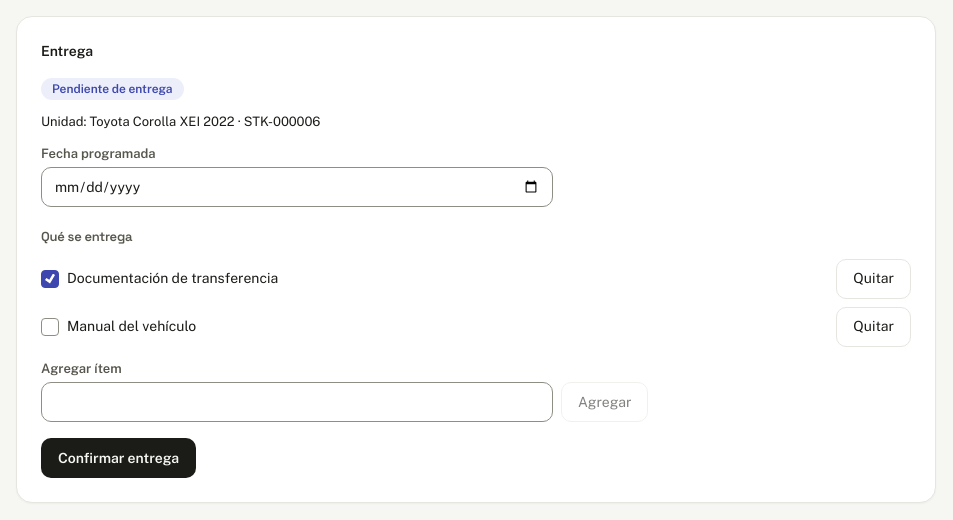
Test: DeliverySection › confirmar pide confirmación con los ítems sin marcar; cancelar no manda nada; aceptar deja todo en solo lectura con quién y cuándo
Click the button "Confirmar entrega" at (119, 458), box [41,438,196,478]
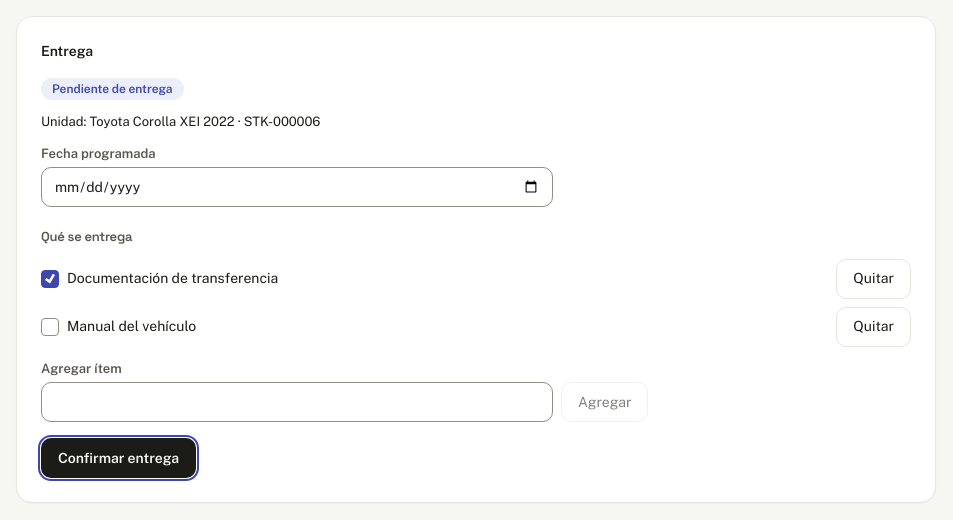
Click the button "Confirmar entrega" at (119, 458), box [41,438,196,478]
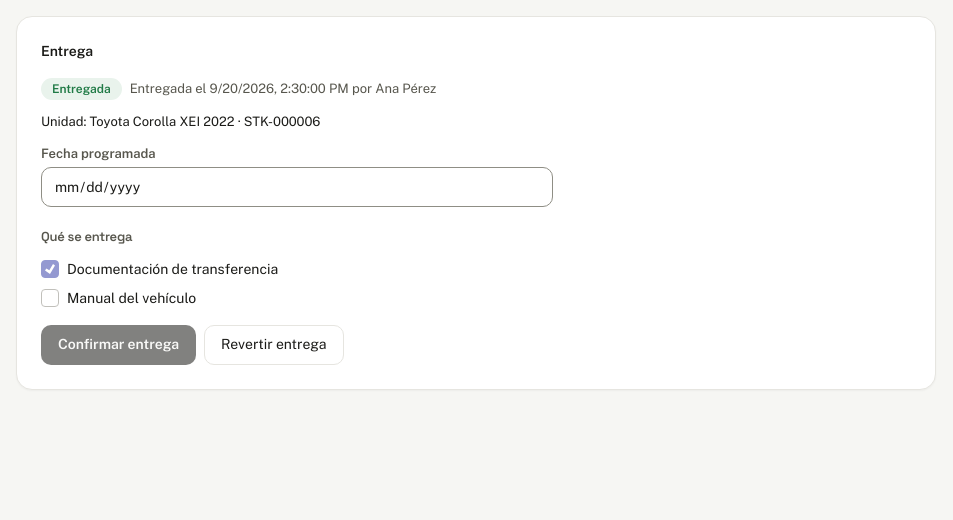
Expected: the text "Entregada" is shown, [41,78,122,100]
Expected: the text "Entregada el 9/20/2026, 2:30:00 PM por Ana Pérez" is shown, [130,79,436,99]
Expected: the button "Confirmar entrega" is disabled, [41,324,196,364]
